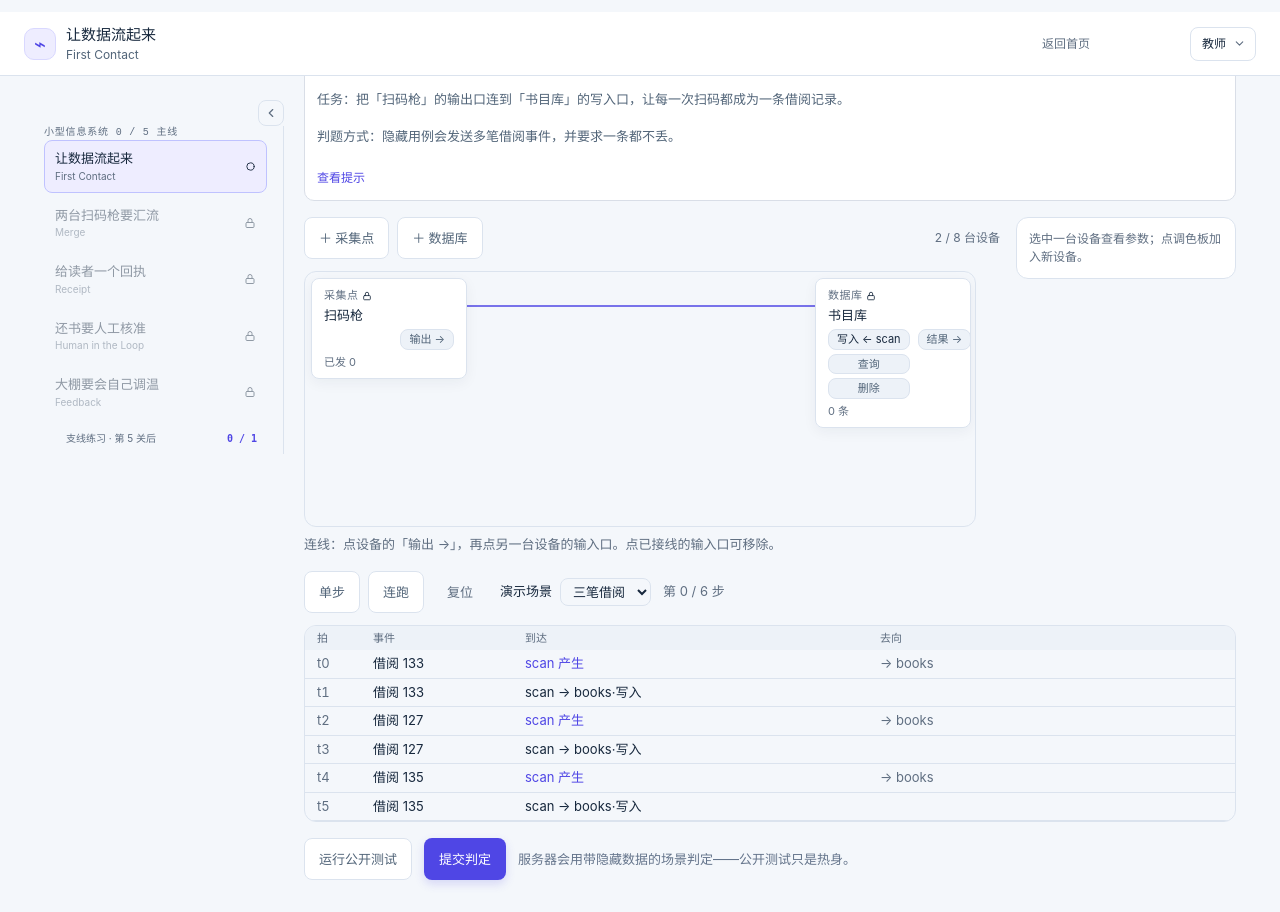
IsLabPage › does not mark devices for a verdict on a topology edited while judging
(page scrolled)
Expected: the button "写入 ← scan" is shown, [828,329,910,350]
Click the button "提交判定": {"x": 465, "y": 859} [424,838,506,880]
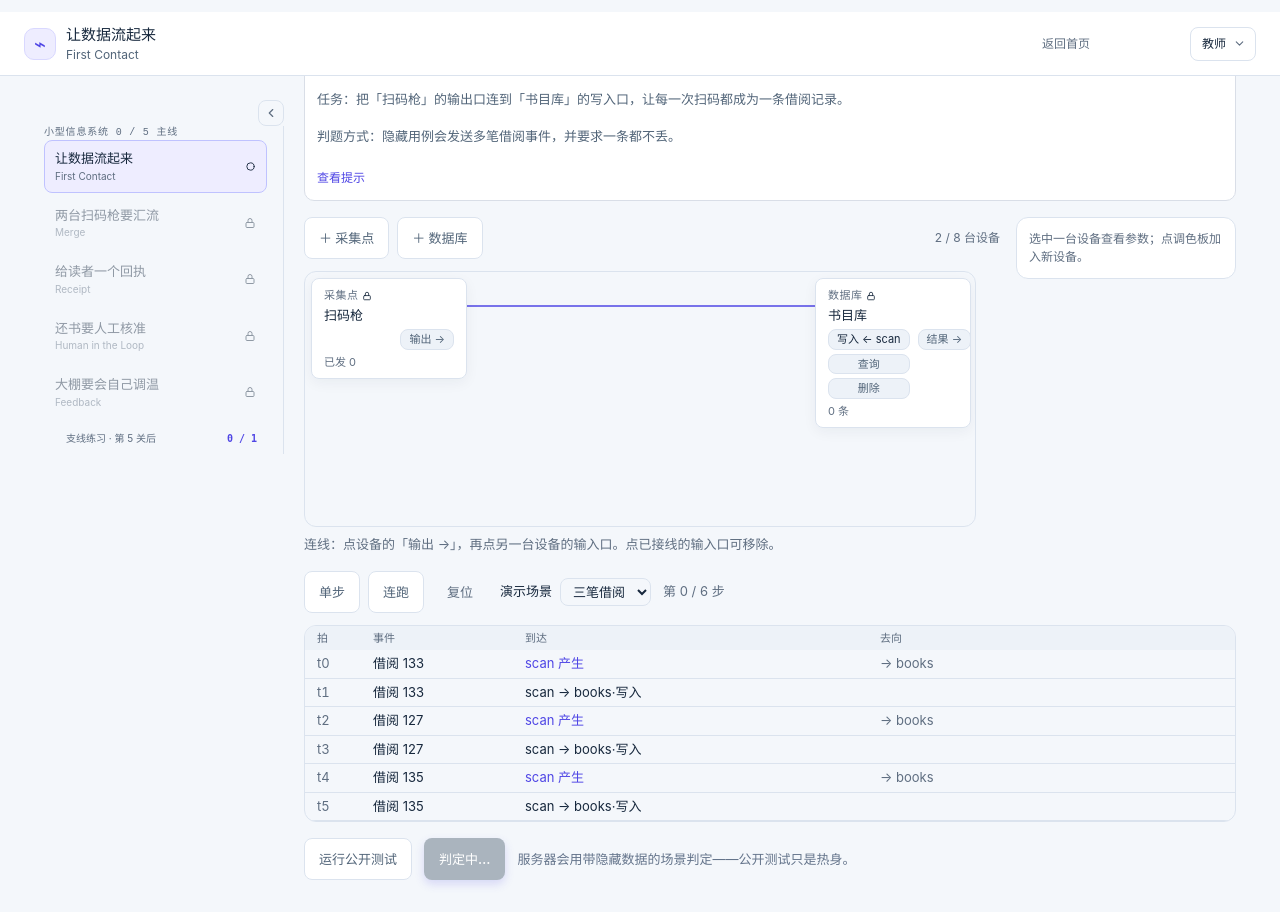
Result: the button "判定中…" is disabled at [424,838,505,880]
The canvas stays editable while the judge runs.
Click the button "＋ 采集点": {"x": 347, "y": 238} [304,217,389,259]
(page scrolled)
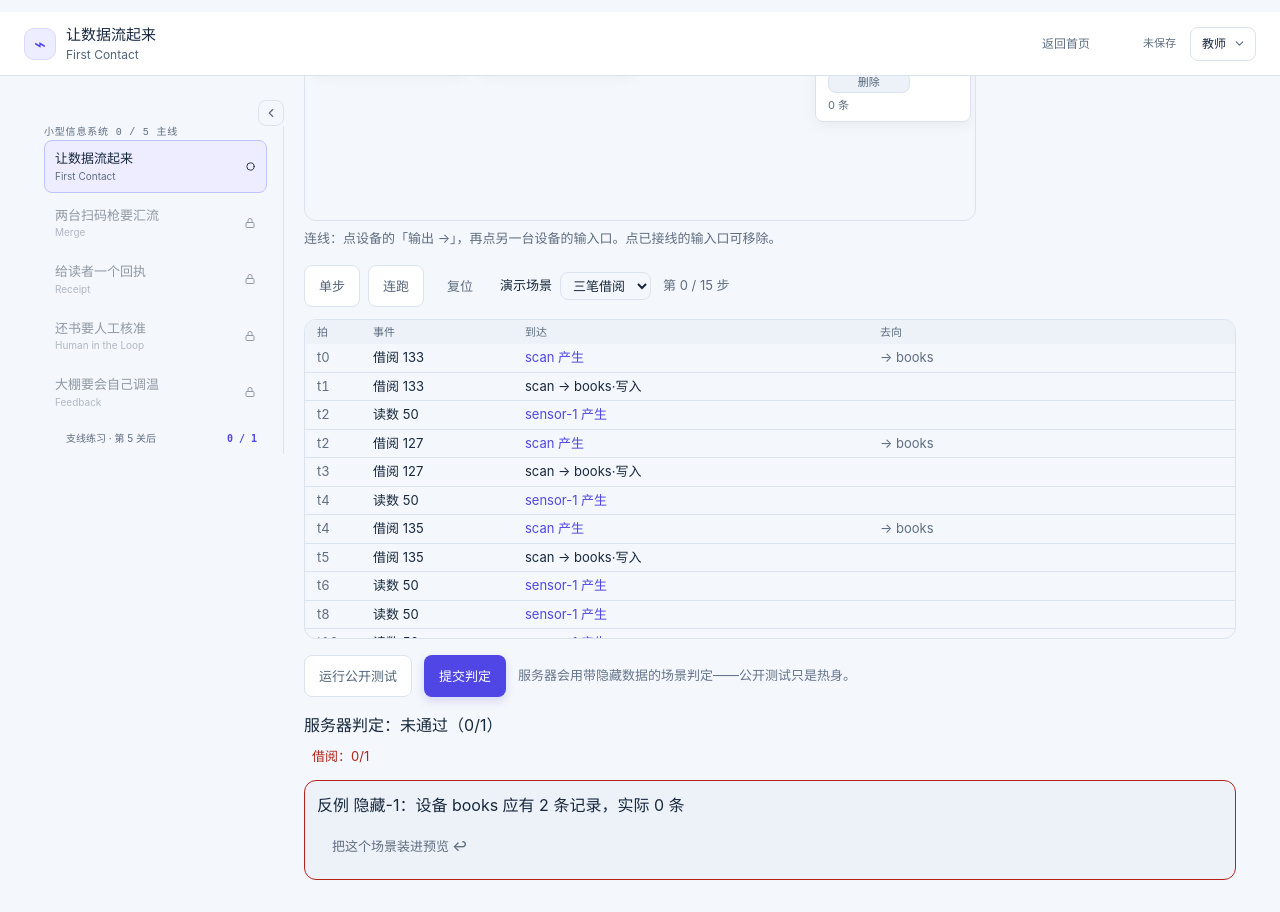
Result: the text "反例 隐藏-1：设备 books 应有 2 条记录，实际 0 条" is shown at [317,795,684,815]
